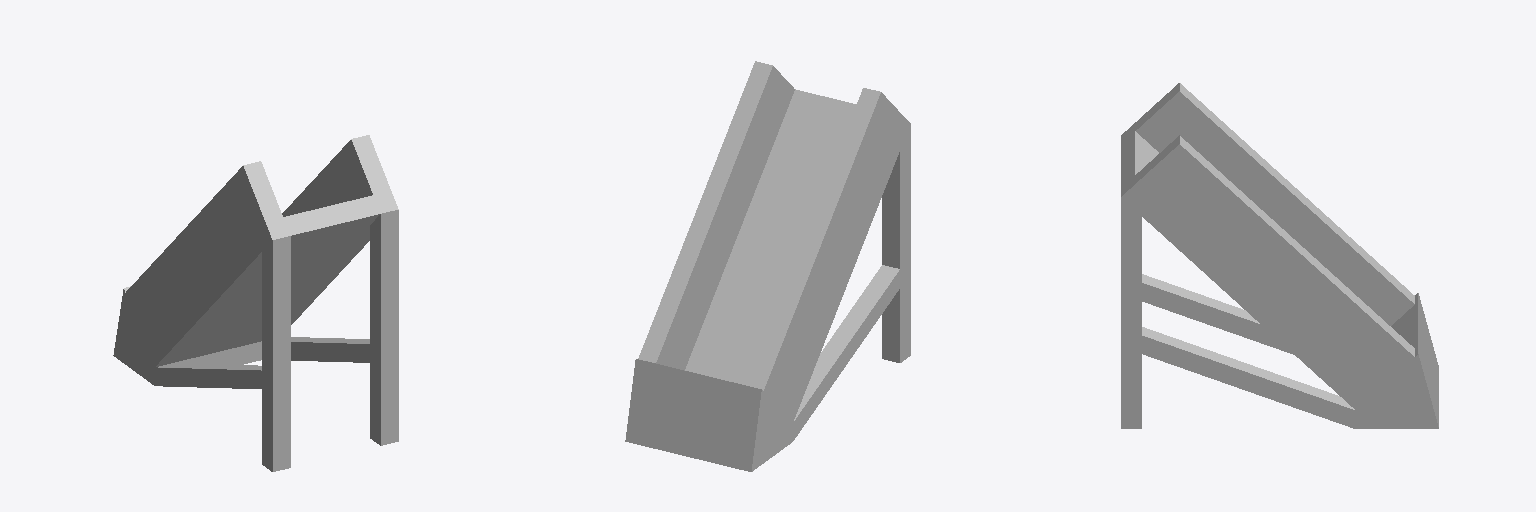
Rendered from coresample.obj.
3 renders of one model, left to right at view 1: azimuth 30°, elevation 25°; view 2: azimuth 150°, elevation 25°; view 3: azimuth 270°, elevation 25°, orthographic.
Parts seen in each view (by area): view 1: cube; view 2: cube; view 3: cube.
Boxes of the visible parts, x1=… form: cube: x1=113, y1=135, x2=398, y2=471; cube: x1=625, y1=61, x2=910, y2=471; cube: x1=1121, y1=83, x2=1438, y2=428.
Size of the model in its own units: 0.4375 by 0.9464 by 0.9571.